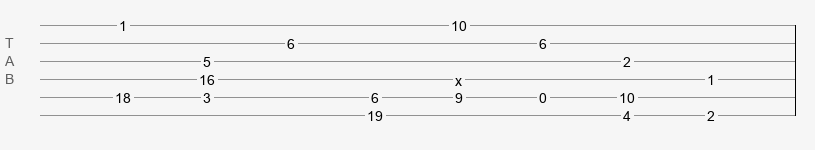0: (539, 90, 547, 100)
1: (119, 18, 127, 28), (707, 72, 715, 82)
10: (451, 18, 467, 28), (619, 90, 635, 100)
16: (199, 72, 215, 82)
18: (115, 90, 131, 100)
19: (367, 108, 383, 118)
2: (623, 54, 631, 64), (707, 108, 715, 118)
3: (203, 90, 211, 100)
4: (623, 108, 631, 118)
5: (203, 54, 211, 64)
6: (287, 36, 295, 46), (371, 90, 379, 100), (539, 36, 547, 46)
9: (455, 90, 463, 100)
x: (455, 73, 462, 81)
